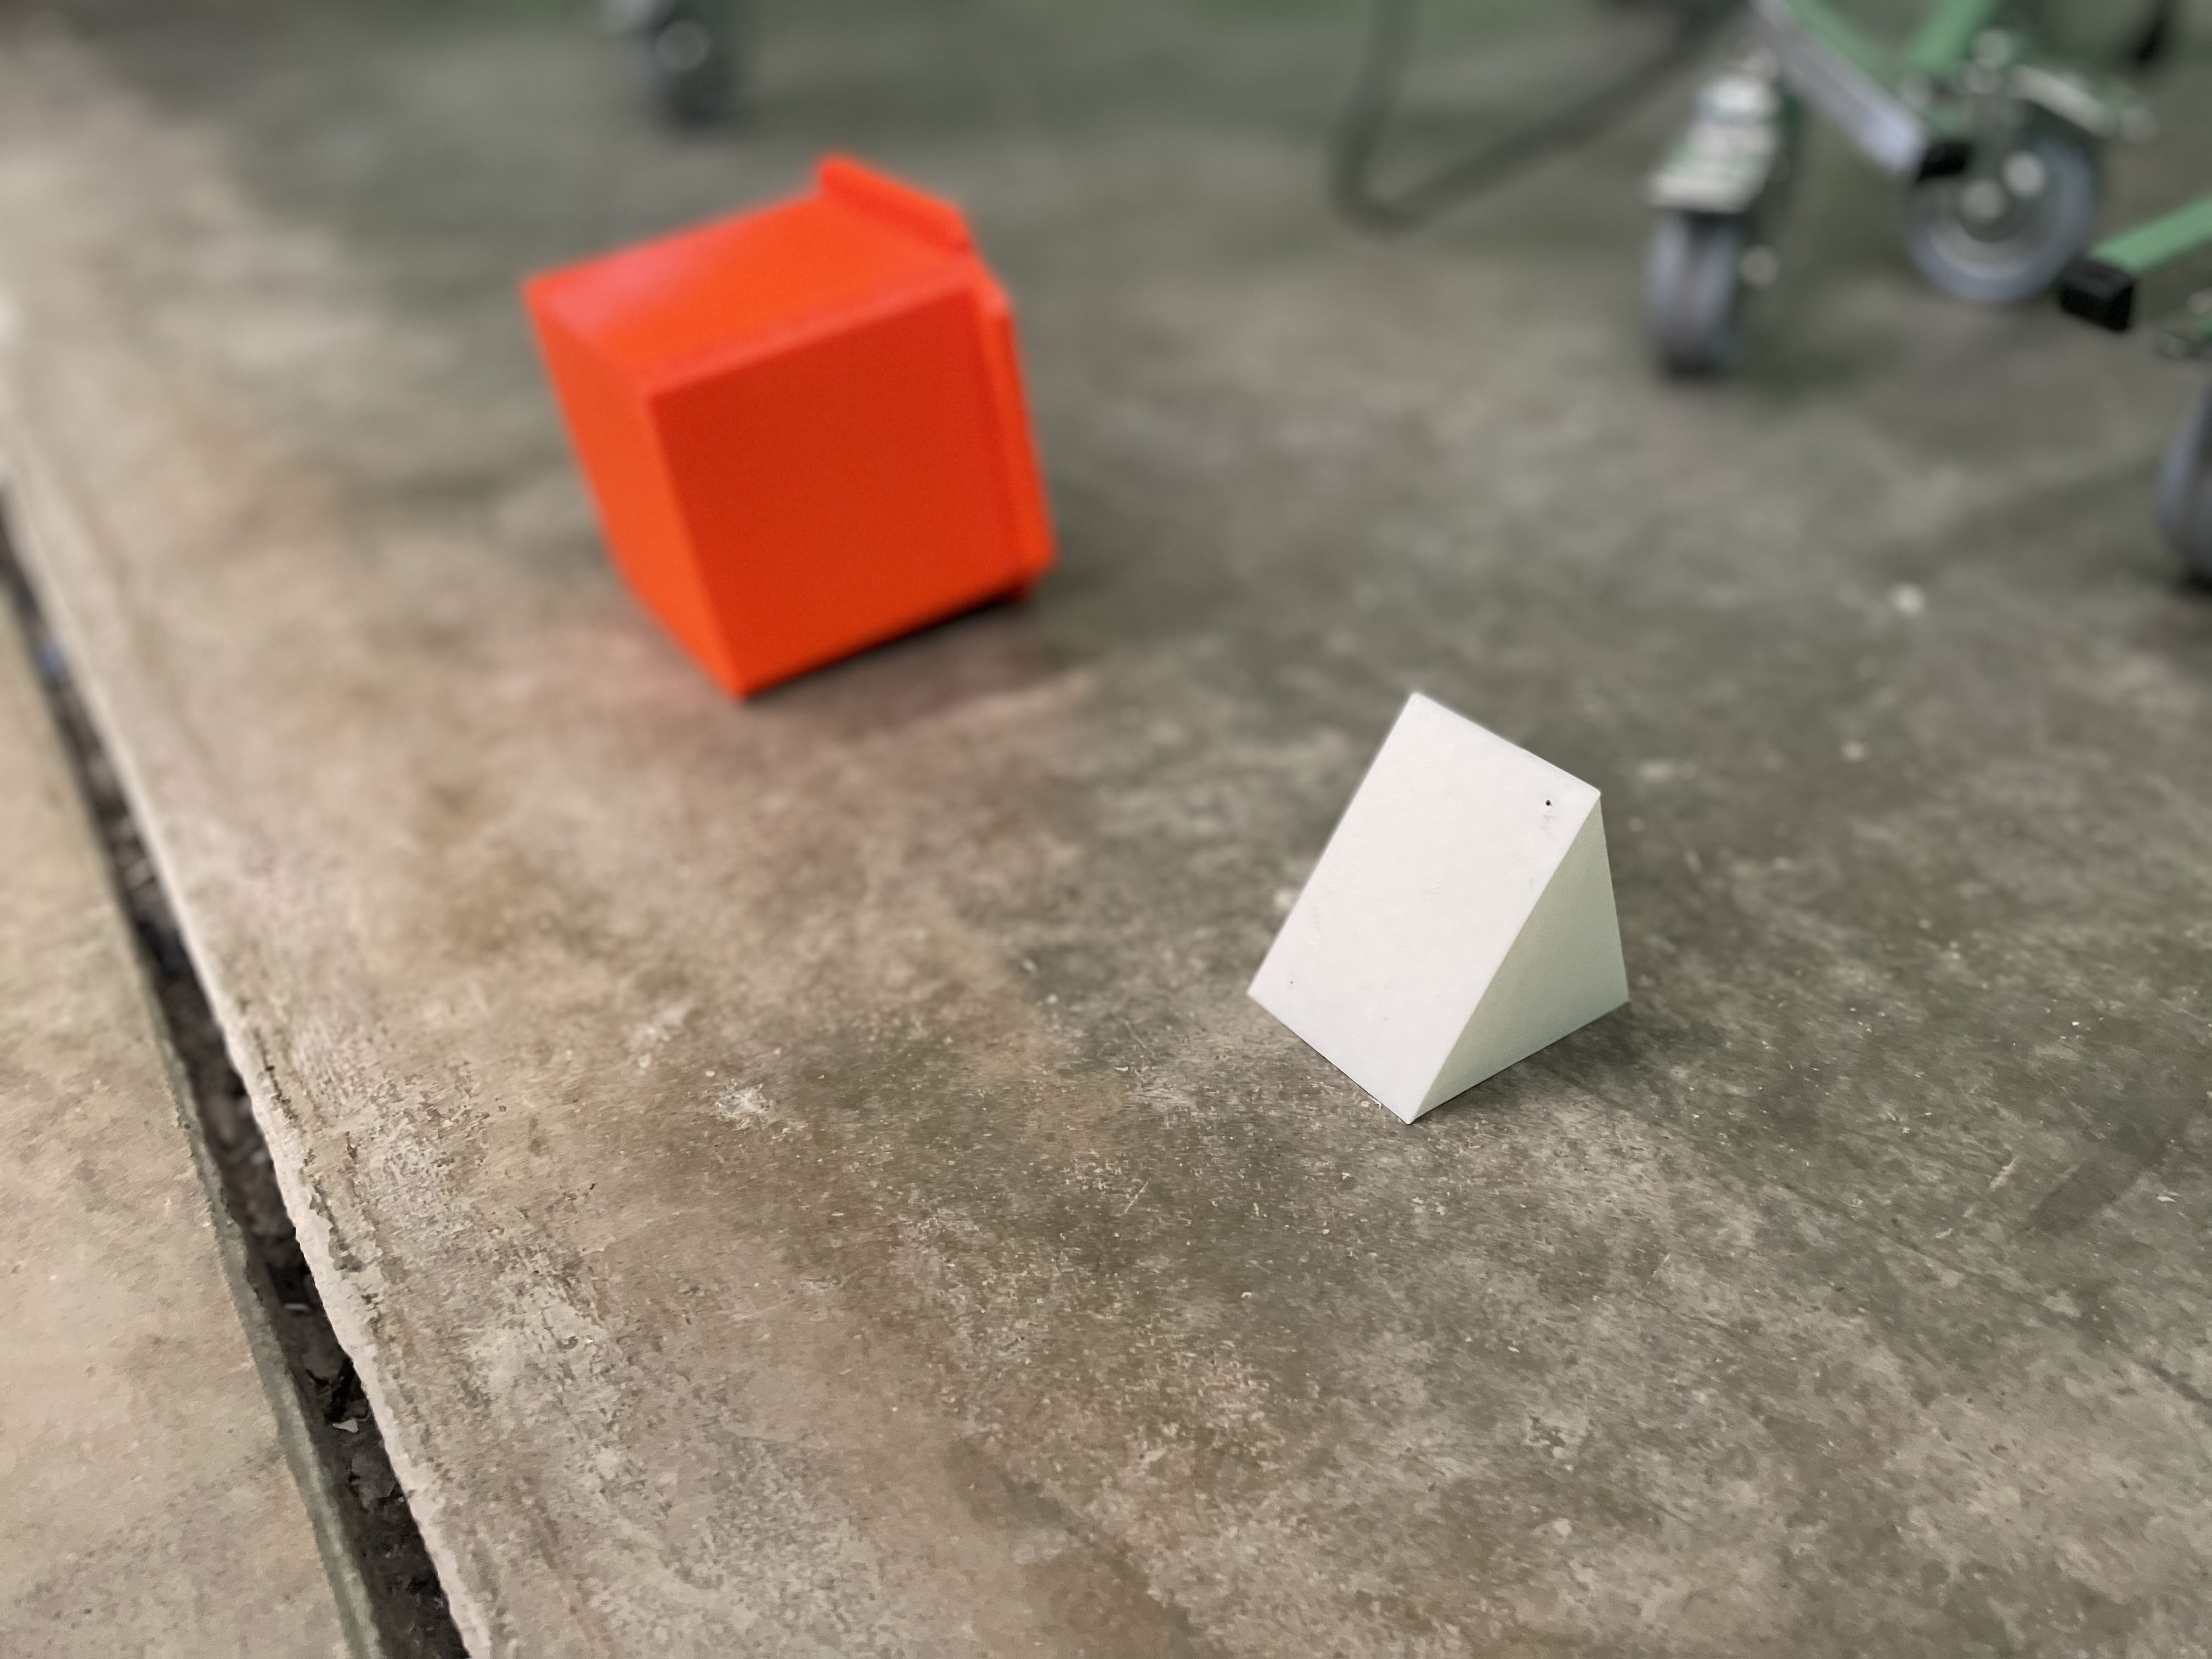payload1: (505, 131, 1089, 718)
payload2: (1219, 673, 1698, 1150)
